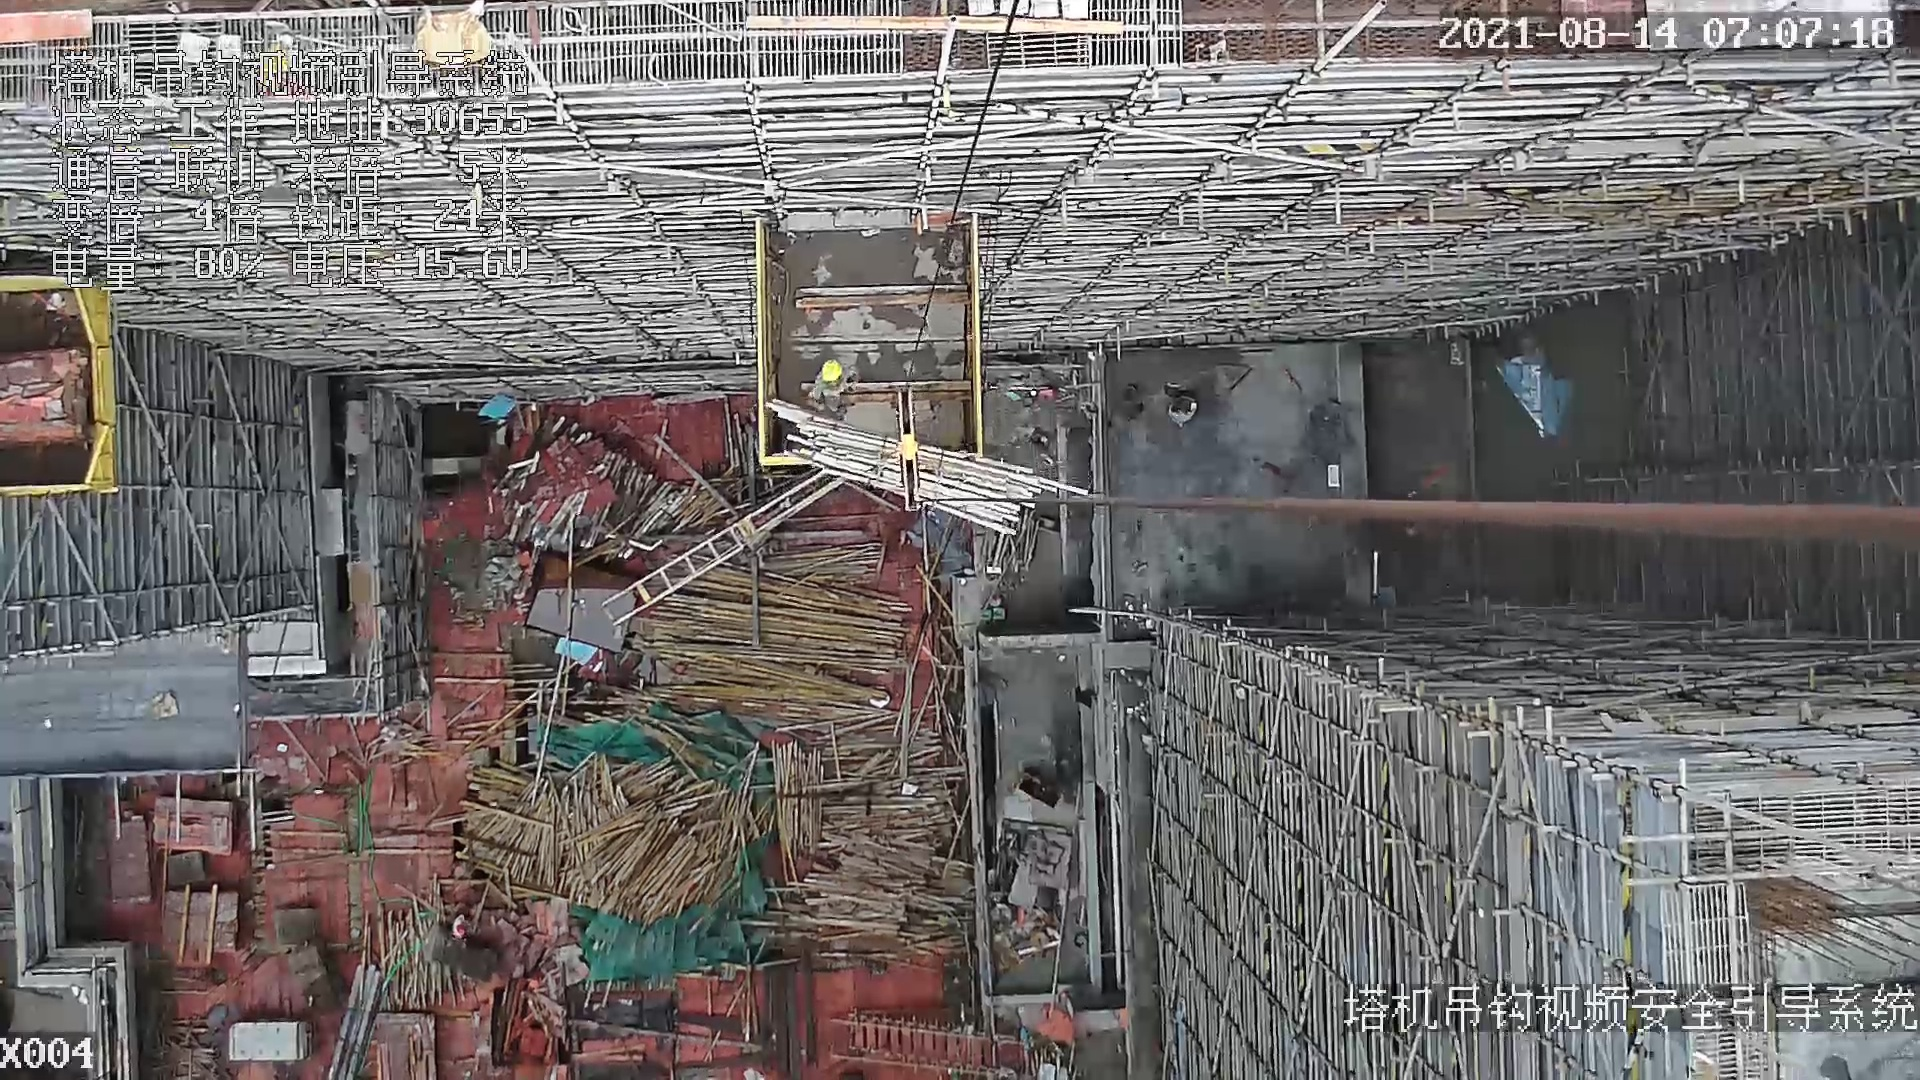helmet: (819, 359, 843, 384)
hook: (890, 385, 931, 514)
person: (805, 354, 863, 422)
